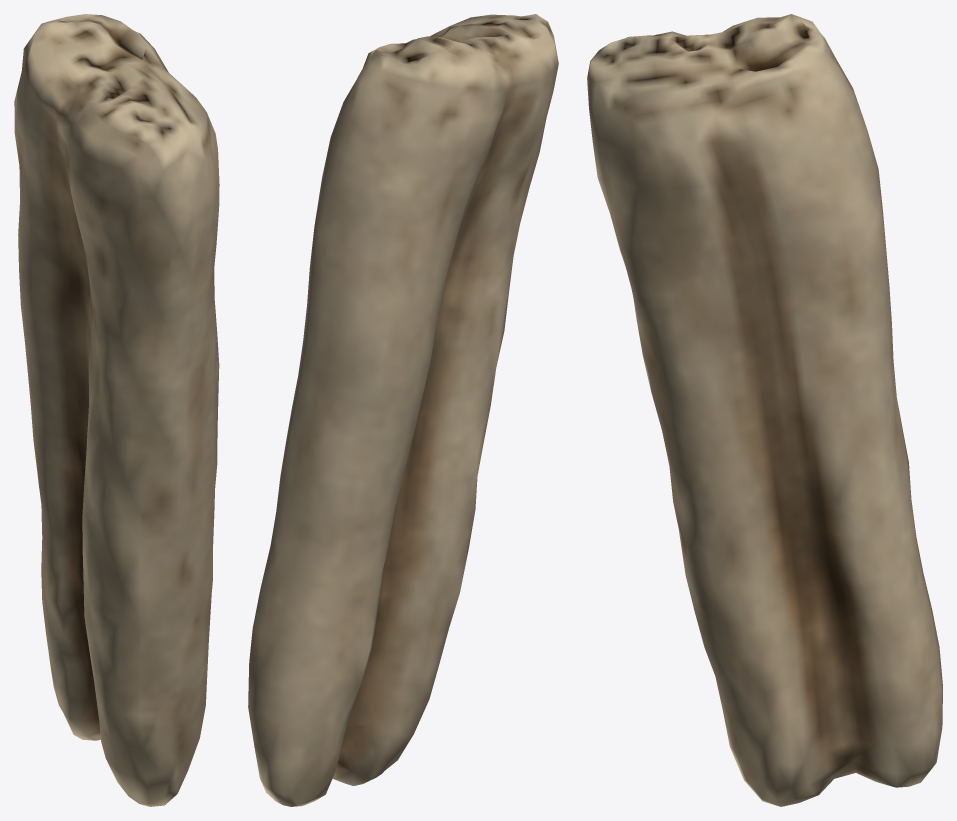
The model's file is Mandibular_Molar5.glb.
The picture shows the model from 3 angles, left to right: view 1: azimuth 30°, elevation 25°; view 2: azimuth 150°, elevation 25°; view 3: azimuth 270°, elevation 25°; orthographic projection. The views are drawn at different scales.
Visible parts, largest first — view 1: Group6281_Mesh.059; view 2: Group6281_Mesh.059; view 3: Group6281_Mesh.059.
Boxes of the visible parts, box(x1,y1,x2,y2) form: Group6281_Mesh.059: box(14, 14, 219, 806); Group6281_Mesh.059: box(248, 14, 558, 806); Group6281_Mesh.059: box(587, 14, 942, 806).
Bounding box in the file's own units: 0.02 × 0.0805 × 0.0347.
Materials: 1 (1 with a texture image).
